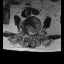CCS_stenosis: (31, 30, 32, 37)
LFS_normal: (35, 29, 37, 36)
LLS_normal: (32, 29, 35, 37)
RFS_normal: (26, 27, 28, 34)
RLS_normal: (28, 29, 31, 36)
